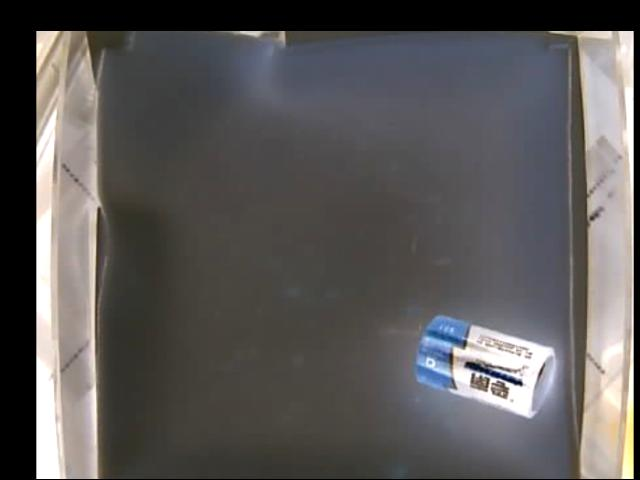Battery: (416, 312, 558, 415)
